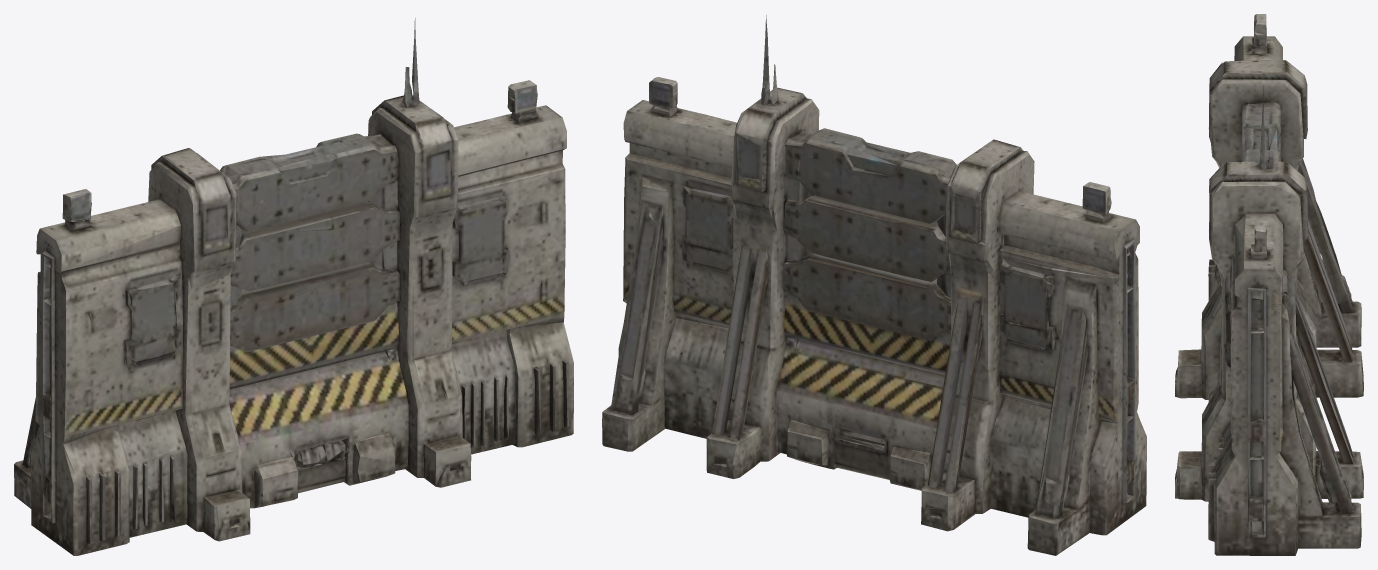
Rendered from struct.barrier.reinforced.glb.
The picture shows the model from 3 angles, left to right: view 1: azimuth 30°, elevation 25°; view 2: azimuth 150°, elevation 25°; view 3: azimuth 270°, elevation 25°; orthographic projection. The views are drawn at different scales.
Parts seen in each view (by area): view 1: body; view 2: body; view 3: body.
Boxes of the visible parts, x1=… form: body: x1=14, y1=18, x2=573, y2=555; body: x1=602, y1=15, x2=1146, y2=555; body: x1=1175, y1=14, x2=1363, y2=555.
Size of the model in its own units: 1.84 by 1.5 by 0.6264.
1 material, 1 textured.
